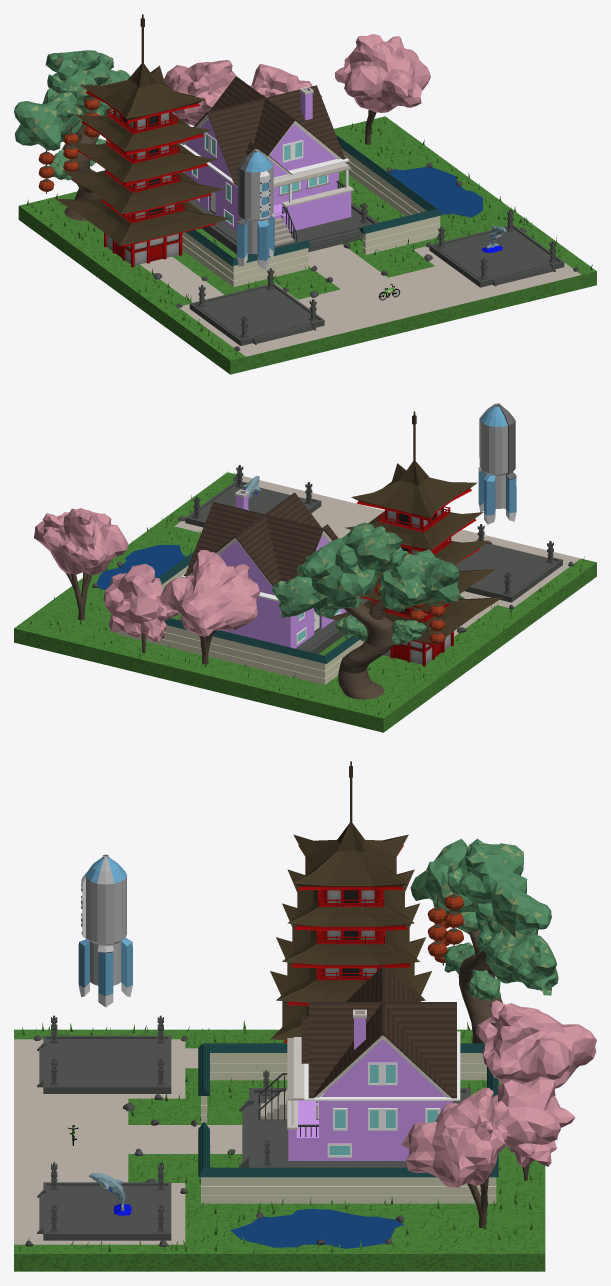
The picture shows the model from 3 angles, top to bottom: view 1: azimuth 30°, elevation 25°; view 2: azimuth 150°, elevation 25°; view 3: azimuth 270°, elevation 25°; orthographic projection. The views are drawn at different scales.
Visible parts, largest first — view 1: Cube.005, Cube.391, OBJRANDOM_ROCKETSHIP; view 2: Cube.005, Cube.391, OBJRANDOM_ROCKETSHIP; view 3: Cube.005, Cube.391, OBJRANDOM_ROCKETSHIP, ANIMAL_DELFIN.
Part boxes in pixels (left/top/right/bottom): Cube.005: left=14, top=14, right=596, bottom=374; Cube.391: left=178, top=76, right=353, bottom=246; OBJRANDOM_ROCKETSHIP: left=236, top=149, right=274, bottom=269; Cube.005: left=14, top=411, right=596, bottom=732; Cube.391: left=181, top=489, right=346, bottom=648; OBJRANDOM_ROCKETSHIP: left=478, top=403, right=516, bottom=524; Cube.005: left=14, top=761, right=596, bottom=1271; Cube.391: left=258, top=966, right=460, bottom=1160; OBJRANDOM_ROCKETSHIP: left=78, top=854, right=132, bottom=1007; ANIMAL_DELFIN: left=89, top=1173, right=132, bottom=1215.
Size of the model in its own units: 4528 by 2690 by 4389.
Materials: 45 (5 with a texture image).
